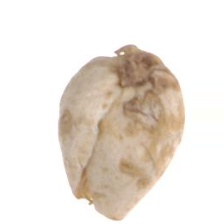L1: (72, 169, 121, 221), (110, 41, 153, 84)
L2: (58, 43, 187, 221)
